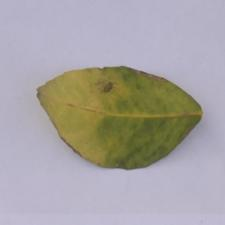Greening: (32, 48, 208, 178)
